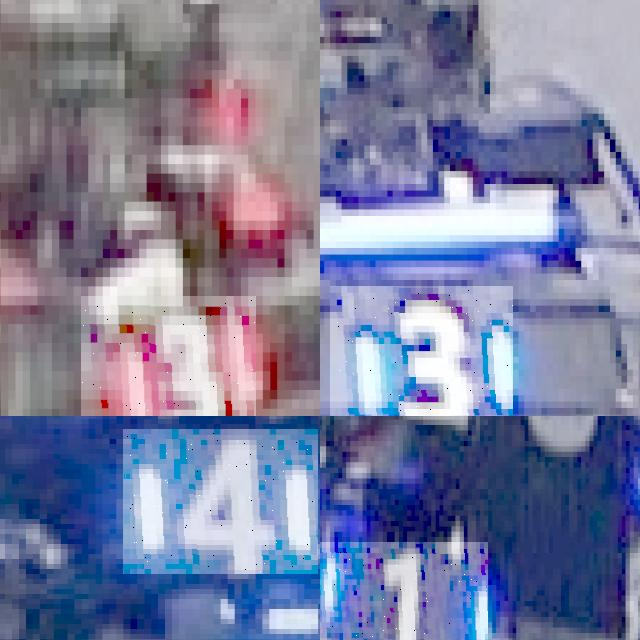B1: (320, 542, 488, 640)
B4: (123, 429, 318, 574)
R3: (330, 286, 513, 416), (81, 295, 255, 416)
